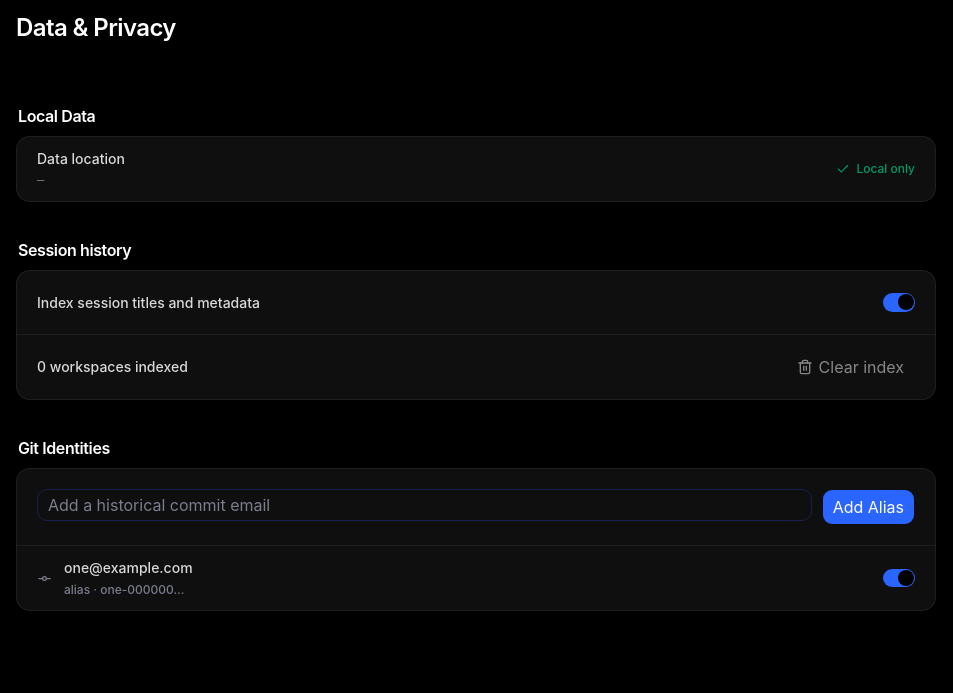
GlobalSettings privacy data › reloads git identities from the cache after adding an alias
Check: the text "one@example.com" is shown, box [64,559,193,576]
In the field labelled "Add a historical commit email": (424, 505) [37,489,812,521], type "two@example.com"
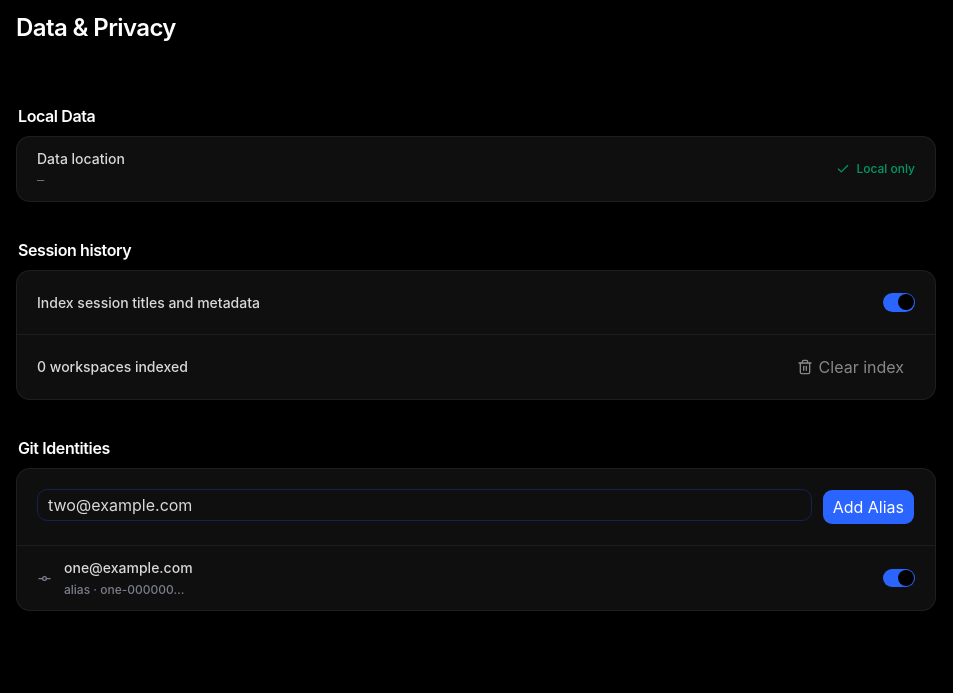
Click the button "Add Alias": (868, 507) [822,489,915,525]
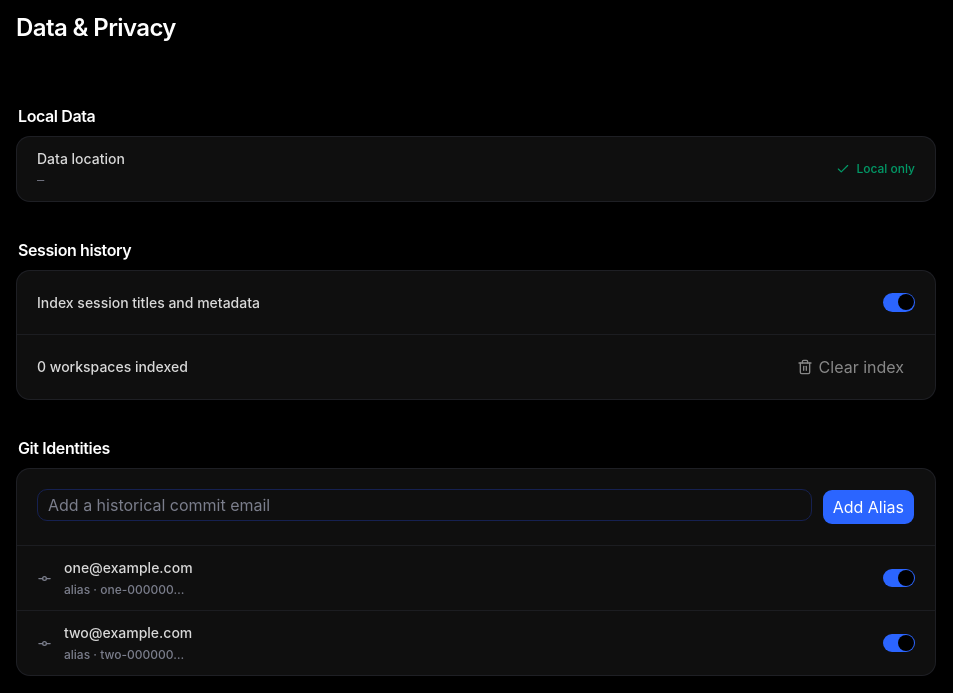
Check: the text "two@example.com" is shown, box [64,624,192,641]
